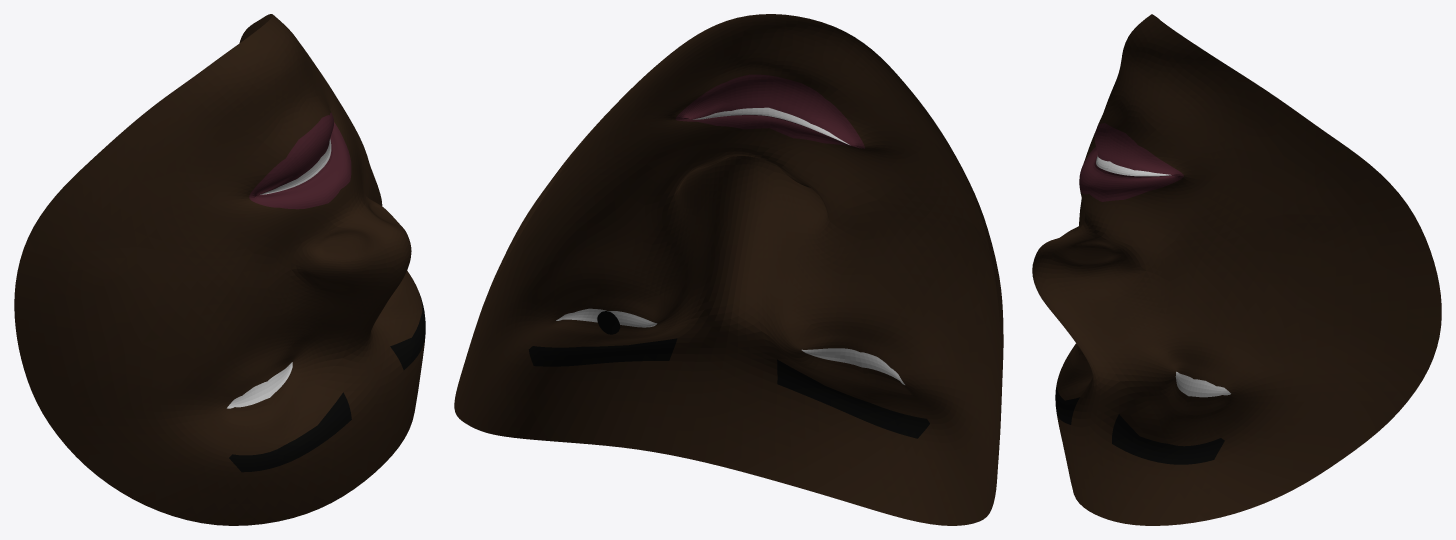
The model's file is frame_00031.obj.
3 views of the same model, side by side, from view 1: azimuth 30°, elevation 25°; view 2: azimuth 150°, elevation 25°; view 3: azimuth 270°, elevation 25° (orthographic). The views are drawn at different scales.
Visible parts, largest first — view 1: face_mesh_subdivided; view 2: face_mesh_subdivided; view 3: face_mesh_subdivided.
Boxes of the visible parts, x1,y1,x2,y2 form: face_mesh_subdivided: (14, 14, 425, 525); face_mesh_subdivided: (454, 14, 1003, 525); face_mesh_subdivided: (1032, 14, 1441, 525).
Size of the model in its own units: 0.4874 by 0.5176 by 0.4186.
